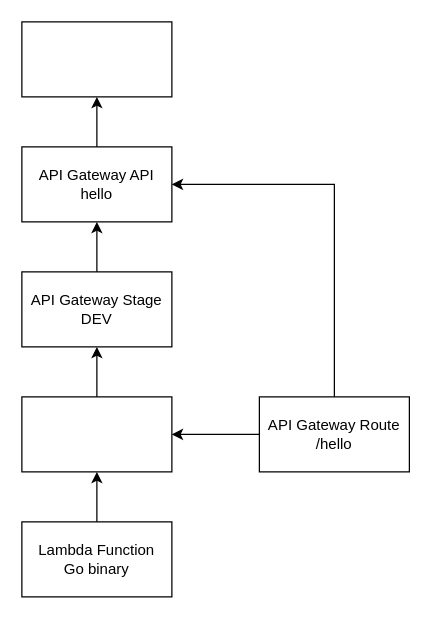
Image size: 431x619. Some labels were removed from this diagram. Each missing label, with the centre of its shape:
"API Gateway" goes at (x=96, y=59).
"API Gateway Integration with Lambda" goes at (x=96, y=434).
